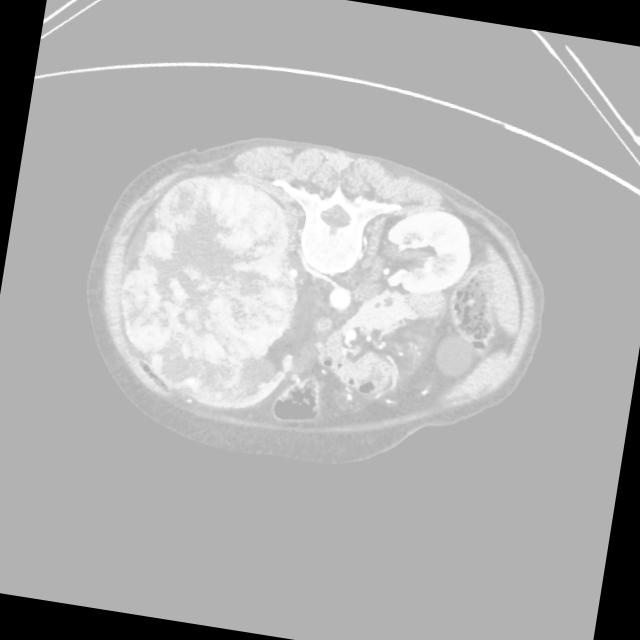TUMOR: (285, 216, 546, 423)
